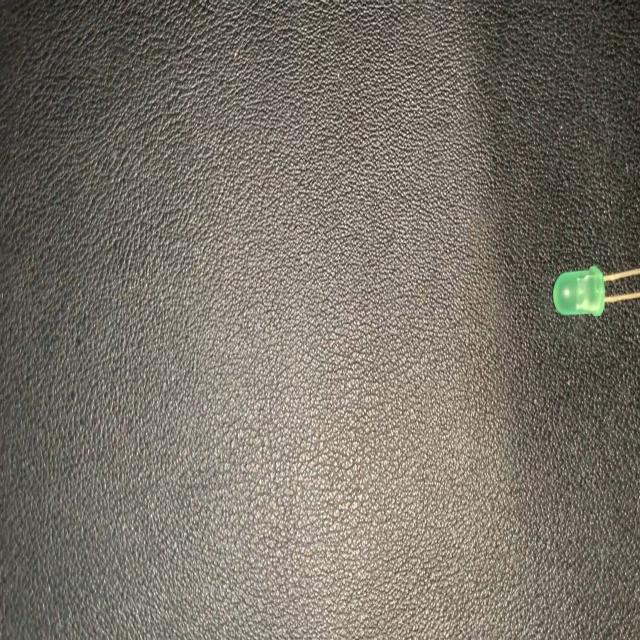LED: (552, 260, 640, 323)
